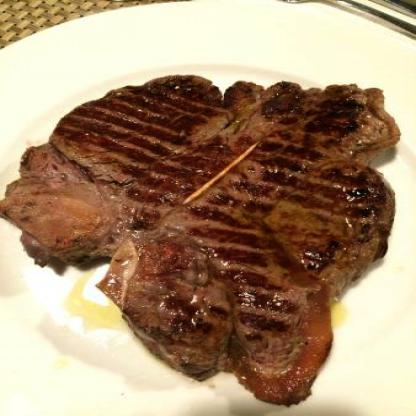Carne: (6, 61, 415, 392)
